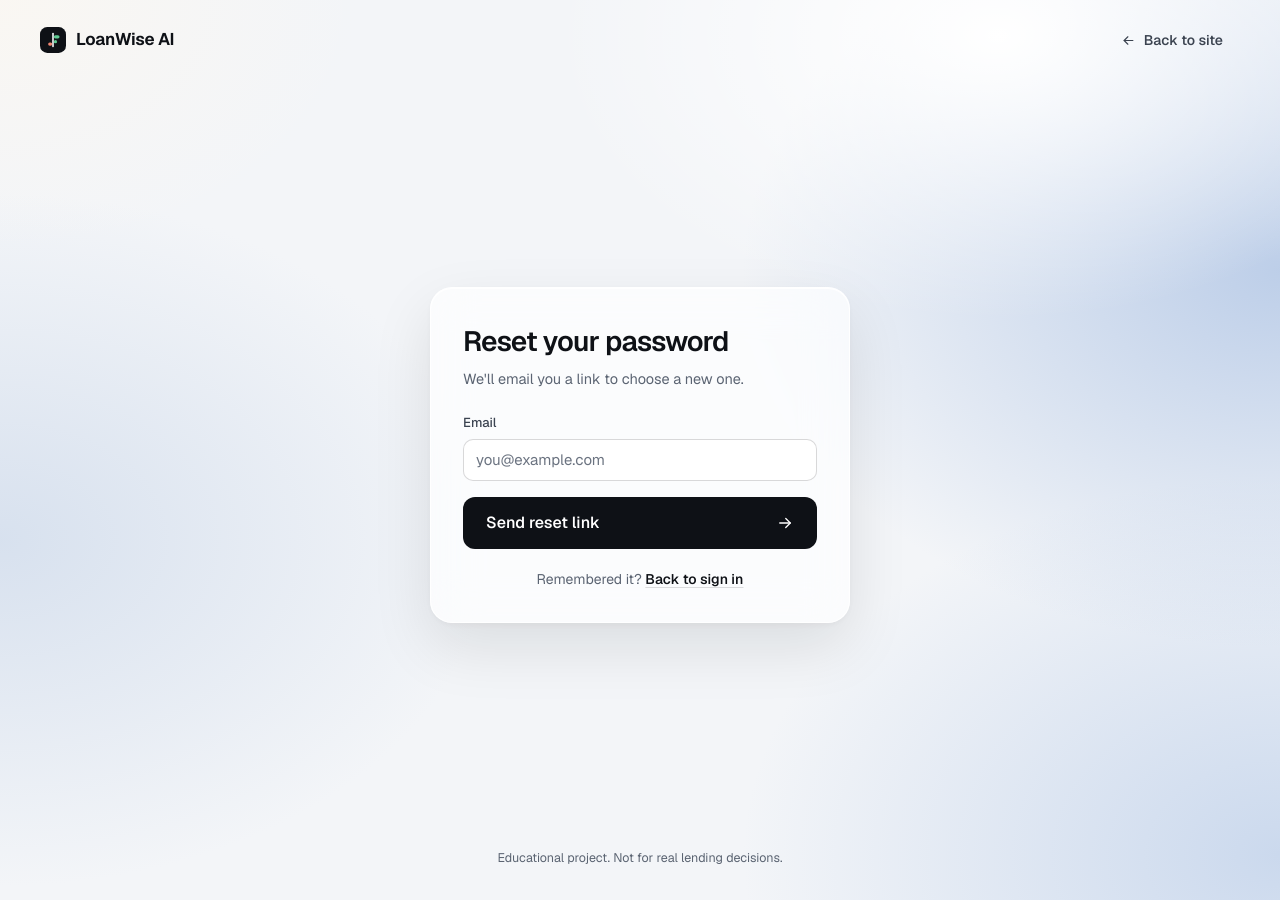
it: forgot password › sends a reset email that returns to /reset-password
In the field labelled "Email": (640,460) 463,439 -> 817,481, type "  ada@example.com "
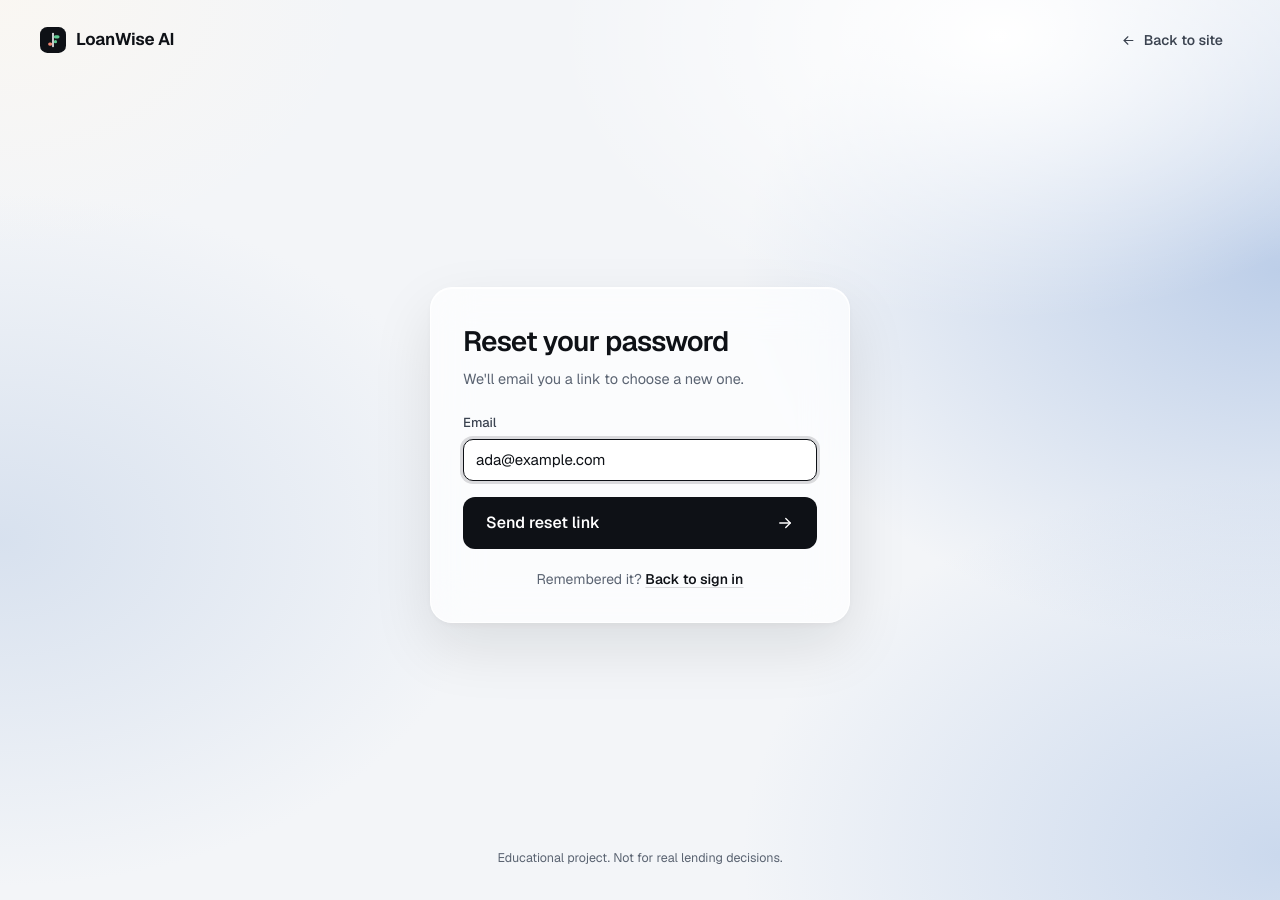
Click the button "Send reset link": (543,522) 463,497 -> 817,549
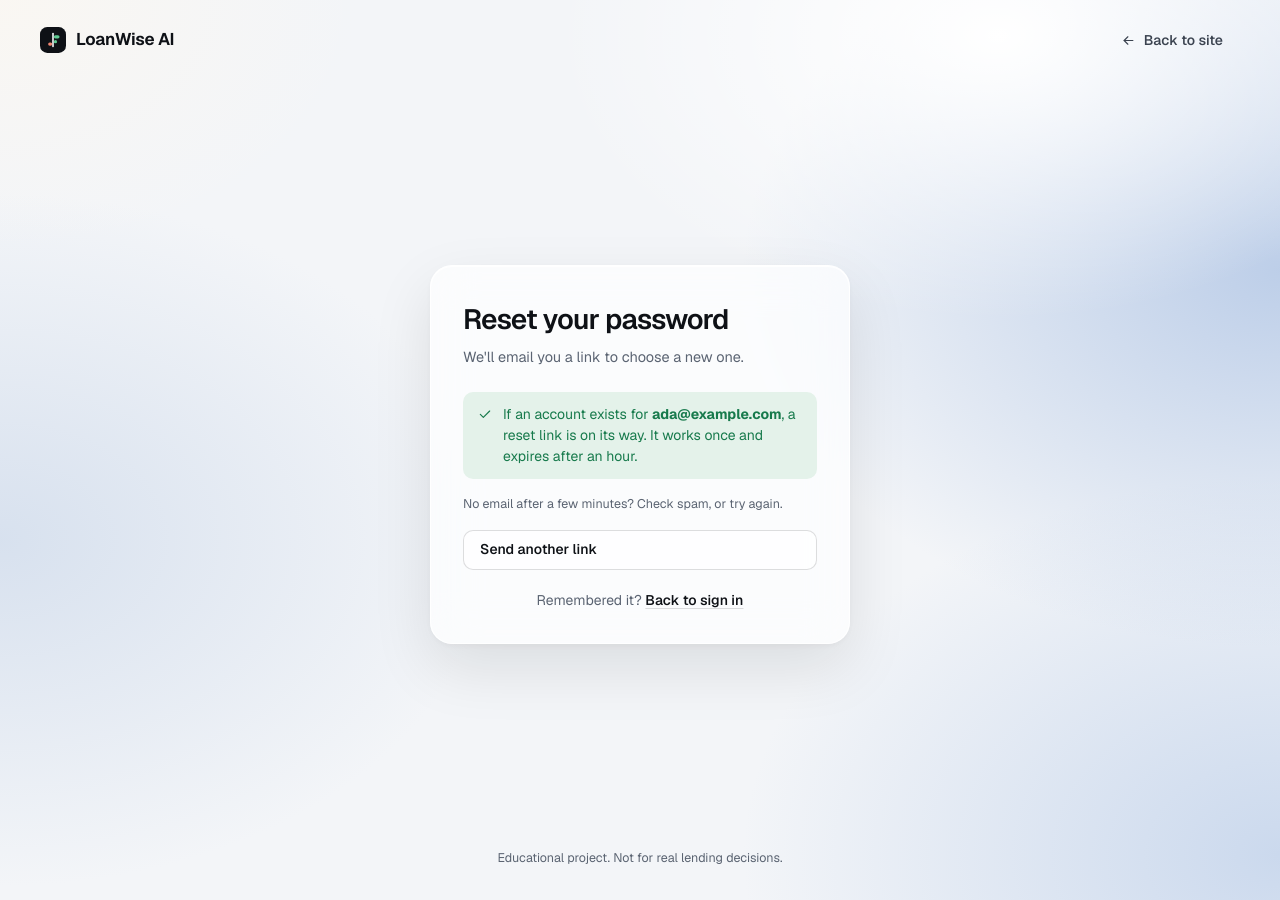
Expected: the message shows "If an account exists for ada@example.com", 463,392 -> 817,479
